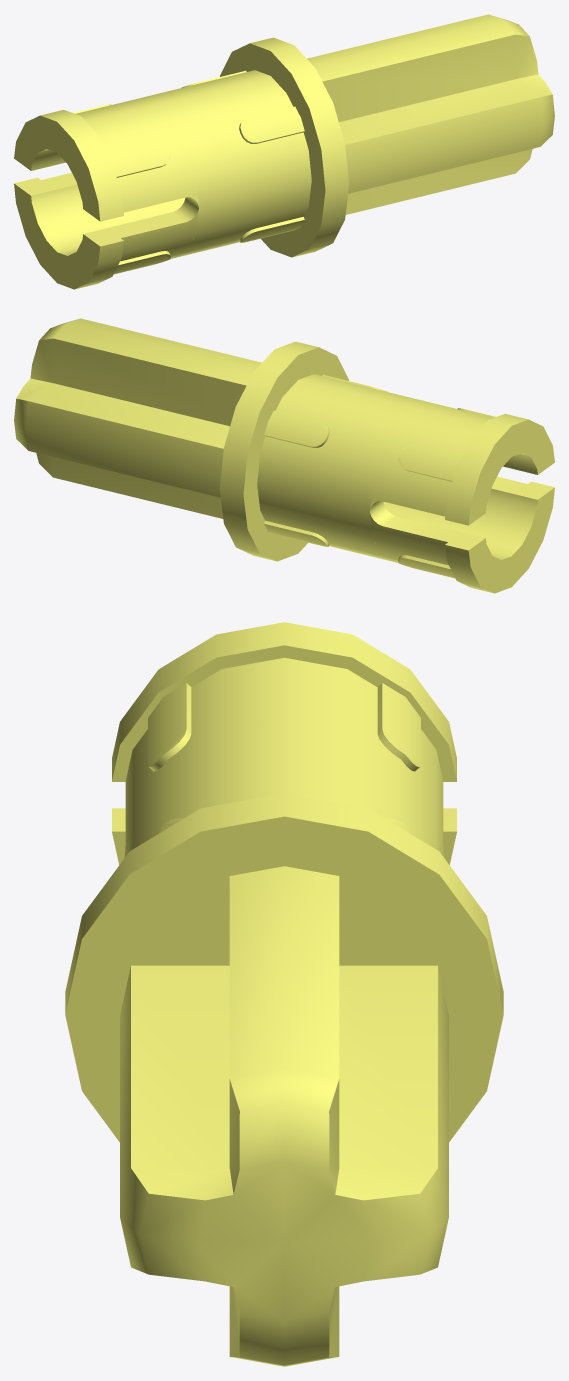
3 views of the same model, one above another, from view 1: azimuth 30°, elevation 25°; view 2: azimuth 150°, elevation 25°; view 3: azimuth 270°, elevation 25° (orthographic). The views are drawn at different scales.
Parts seen in each view (by area): view 1: 43093.dat; view 2: 43093.dat; view 3: 43093.dat.
Boxes of the visible parts, box(x1,y1,x2,y2) form: 43093.dat: box(14, 14, 554, 289); 43093.dat: box(14, 318, 554, 593); 43093.dat: box(65, 622, 503, 1366).
Size of the model in its own units: 0.0158 by 0.0064 by 0.0064.
